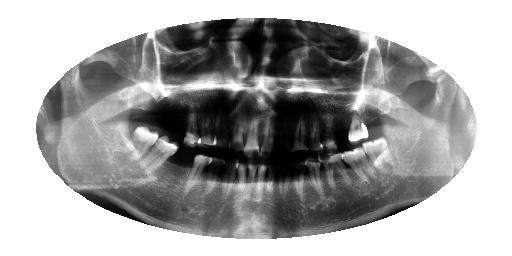i10healthy: (237, 163, 248, 204)
i11decay: (225, 161, 239, 205)
i12decay: (207, 157, 226, 198)
i13decay: (184, 154, 214, 198)
i14loss: (158, 147, 198, 188)
i15healthy: (138, 136, 180, 179)
i16healthy: (122, 126, 160, 165)
i1healthy: (363, 137, 395, 174)
i2healthy: (342, 145, 376, 185)
i3chipped: (318, 153, 351, 191)
i4healthy: (306, 159, 325, 202)
i5chipped: (290, 164, 306, 205)
i6chipped: (277, 164, 290, 204)
i7chipped: (266, 164, 277, 204)
i8healthy: (255, 164, 269, 204)
i9decay: (248, 163, 259, 204)
u10decay: (230, 108, 247, 153)
u11decay: (212, 101, 232, 148)
u12decay: (199, 101, 218, 148)
u13decay: (184, 103, 203, 148)
u14loss: (170, 100, 189, 141)
u15loss: (153, 100, 174, 134)
u16loss: (131, 100, 156, 126)
u1loss: (364, 108, 383, 141)
u2healthy: (347, 103, 371, 143)
u3loss: (334, 103, 351, 151)
u4decay: (321, 101, 338, 156)
u5decay: (306, 100, 324, 158)
u6decay: (293, 100, 308, 158)
u7loss: (276, 103, 292, 158)
u8decay: (261, 108, 276, 160)
u9decay: (244, 108, 261, 159)
